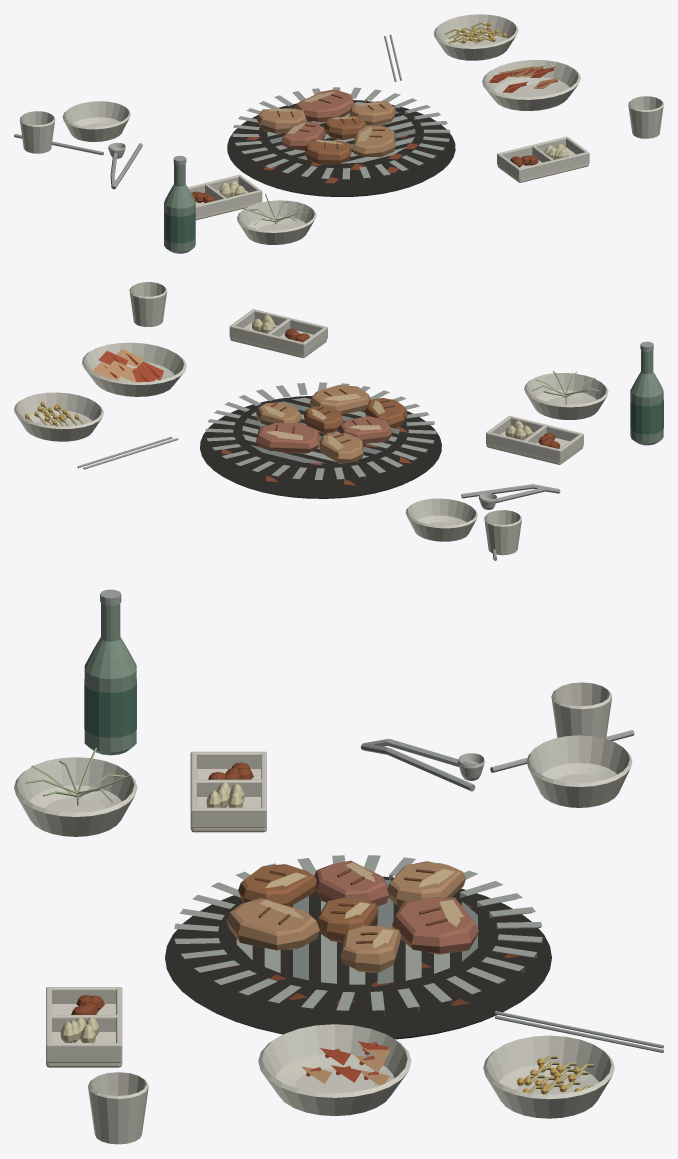
The model's file is tabletop.glb.
The picture shows the model from 3 angles, top to bottom: view 1: azimuth 30°, elevation 25°; view 2: azimuth 150°, elevation 25°; view 3: azimuth 270°, elevation 25°; orthographic projection. The views are drawn at different scales.
Visible parts, largest first — view 1: PoseokjeongMeal; view 2: PoseokjeongMeal; view 3: PoseokjeongMeal.
Part boxes in pixels (box(x1,y1,x2,y2)): PoseokjeongMeal: box(14, 14, 663, 253); PoseokjeongMeal: box(14, 282, 663, 560); PoseokjeongMeal: box(14, 589, 663, 1144).
Bounding box in the file's own units: 1.29 × 0.252 × 0.8528.
